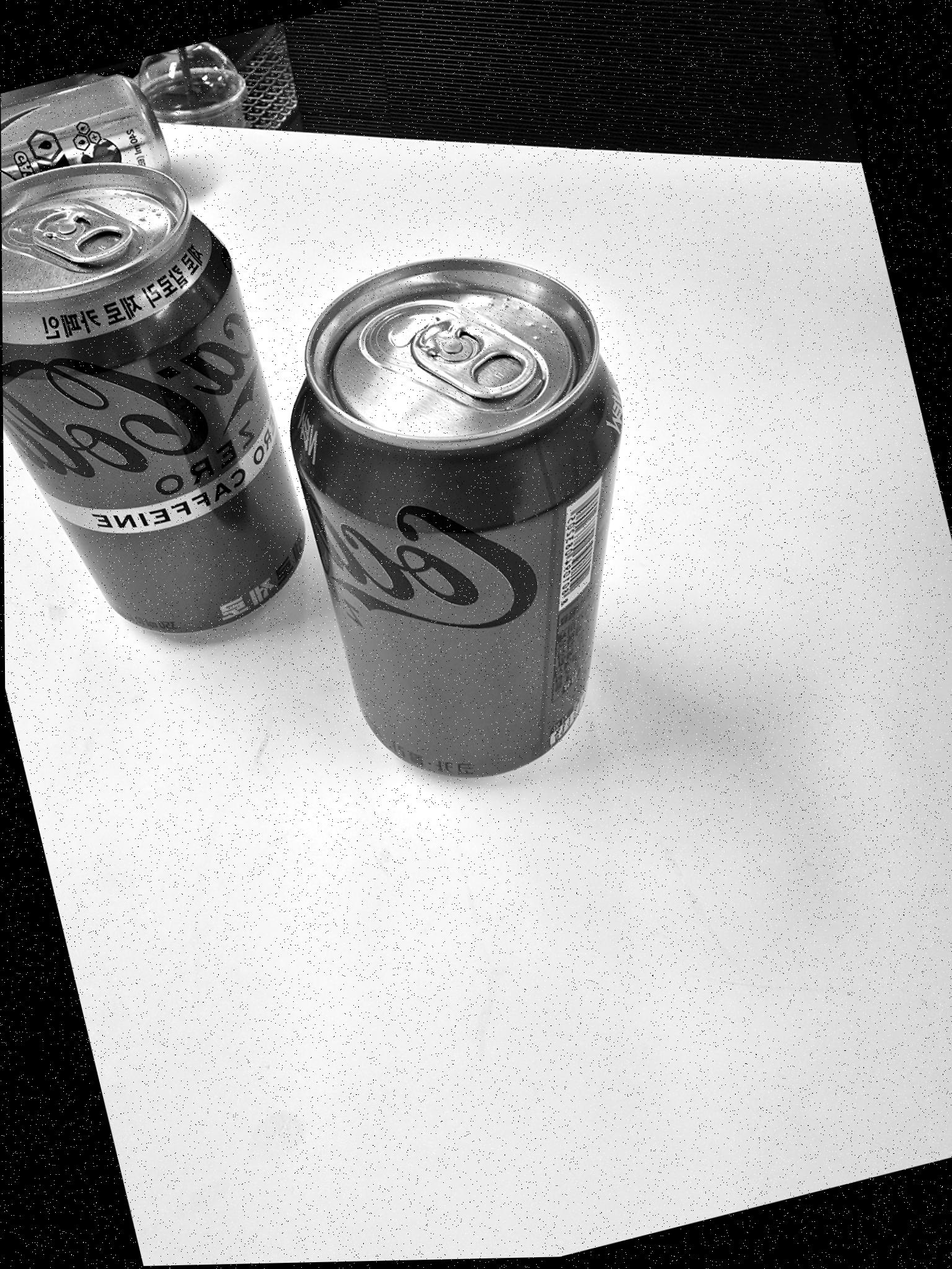can_coke_decaf: (1, 170, 308, 639)
can_coke_zero: (285, 255, 620, 781)
